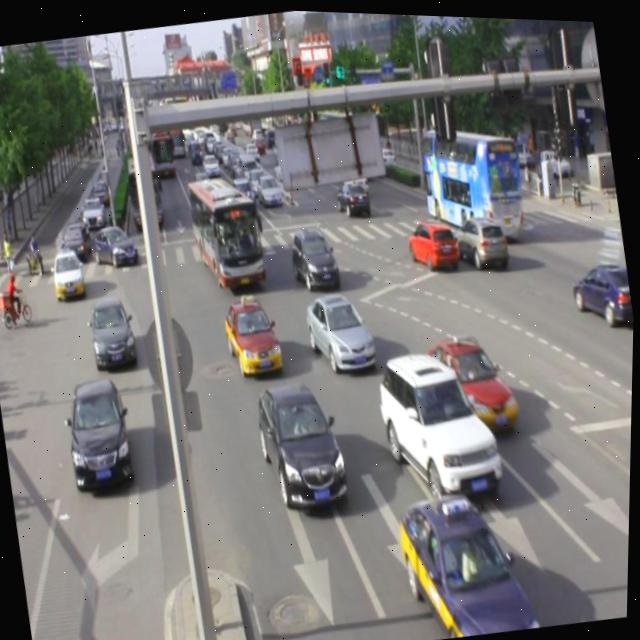car: (395, 476, 547, 640), (373, 336, 507, 506), (254, 372, 354, 512), (427, 325, 522, 435), (62, 372, 140, 494), (304, 284, 380, 374), (222, 292, 287, 378), (567, 254, 636, 327), (87, 293, 141, 371), (288, 223, 343, 291), (453, 207, 511, 270), (404, 212, 462, 272)
van: (415, 109, 529, 242), (186, 171, 270, 290)
